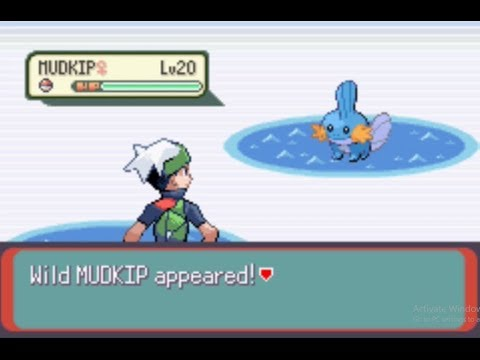mudkip: (307, 80, 394, 167)
